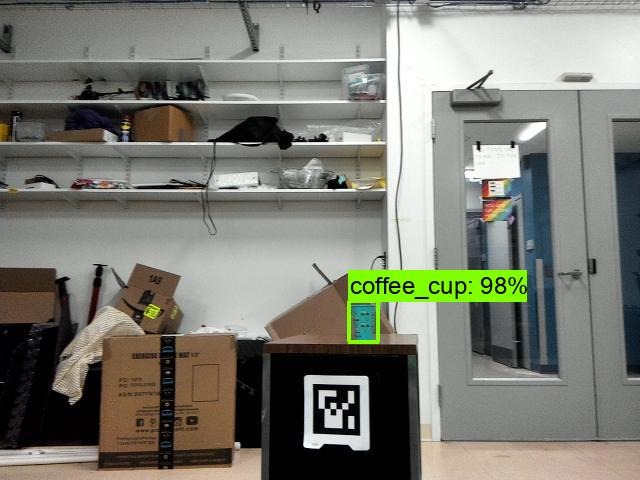coffee_cup: (348, 301, 380, 341)
